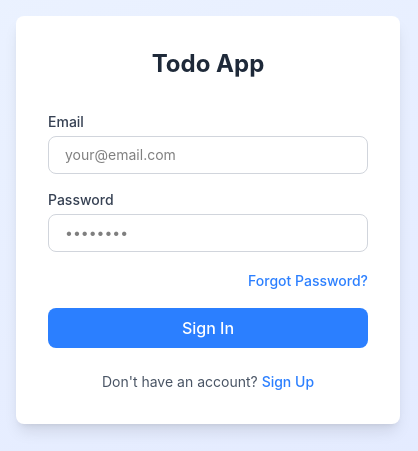
Test: AuthForm › should toggle to forgot password mode
This screenshot has width=418, height=451.
Click the button "Forgot Password?".
click(308, 281)  # box [248,271,368,291]
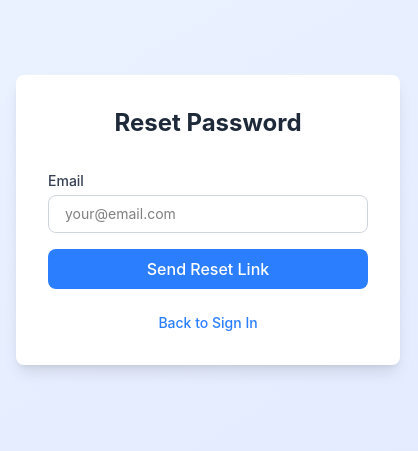
Expected: the heading "Reset Password" is shown, [114,108,302,137]
Expected: the button "Send Reset Link" is shown, [48,249,368,289]
Expected: the button "Back to Sign In" is shown, [158,313,258,333]
